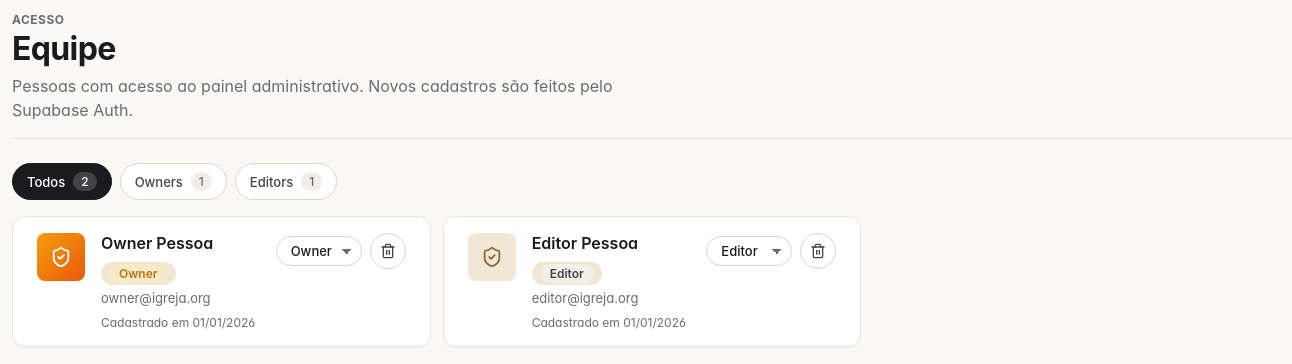
TeamView › filters admins by role through chips
Check: the heading "Owner Pessoa" is shown, box top-left (101, 233), bottom-right (213, 254)
Step 1. Click the radio button labelled "Owners 1" → (173, 182), box top-left (120, 163), bottom-right (227, 200)
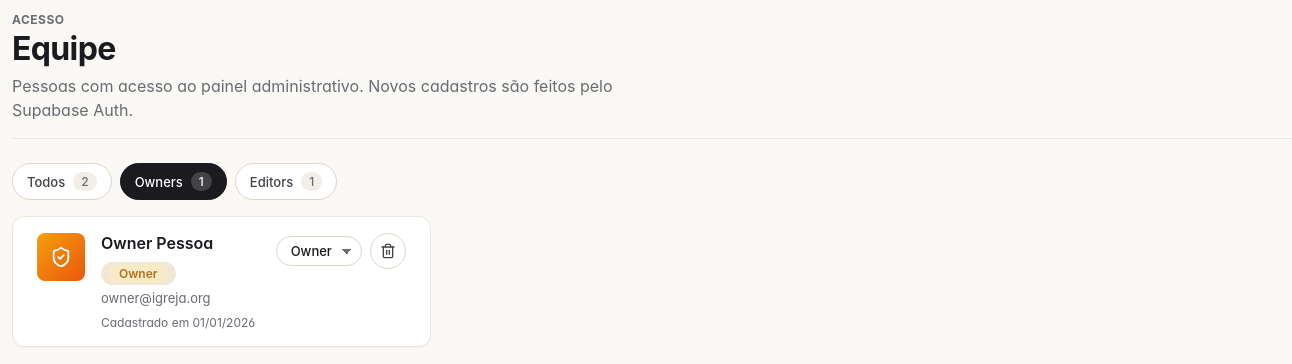
Check: the heading "Owner Pessoa" is shown, box top-left (101, 233), bottom-right (213, 254)
Check: the heading "Editor Pessoa" is gone
Step 2. Click the radio button labelled "Editors 1" → (286, 182), box top-left (235, 163), bottom-right (337, 200)
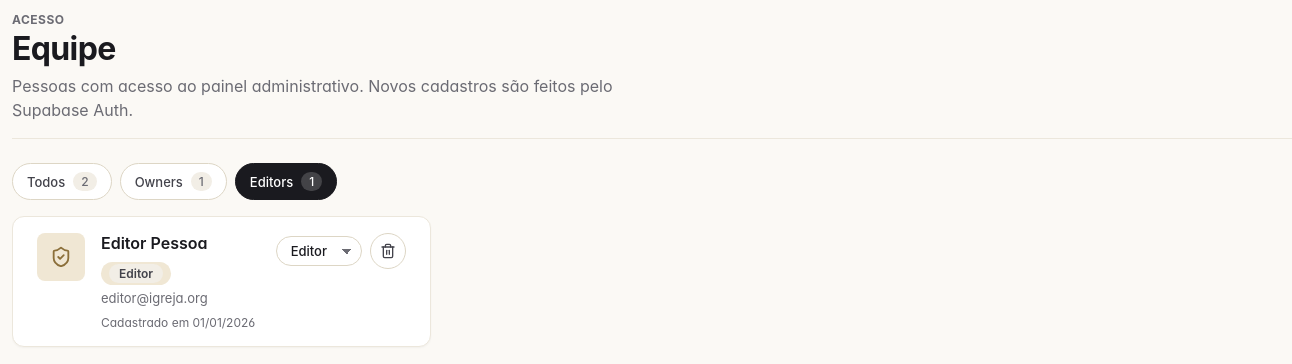
Check: the heading "Owner Pessoa" is gone
Check: the heading "Editor Pessoa" is shown, box top-left (101, 233), bottom-right (208, 254)
